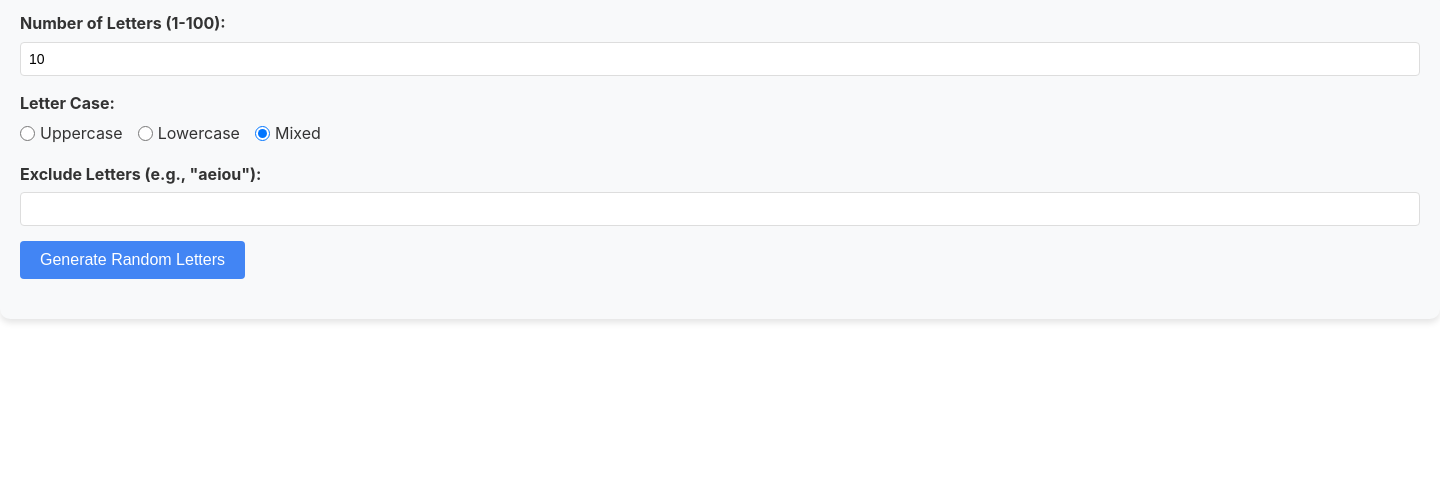
Test: RandomLetterGenerator › handles edge case when all letters are excluded
Exclude all letters
Type "abcdefghijklmnopqrstuvwxyz" into the field labelled "Exclude Letters (e.g., \"aeiou\"):" at (720, 209), box [20,192,1420,226]
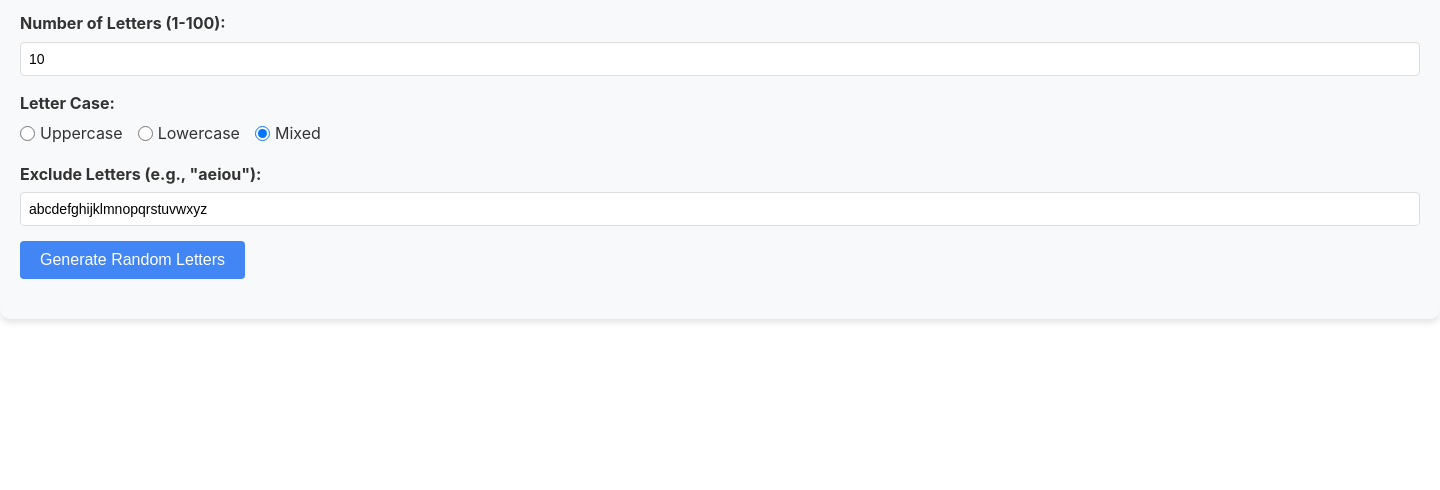
Generate letters
Click the button "Generate Random Letters" at (132, 260), box [20,241,245,279]
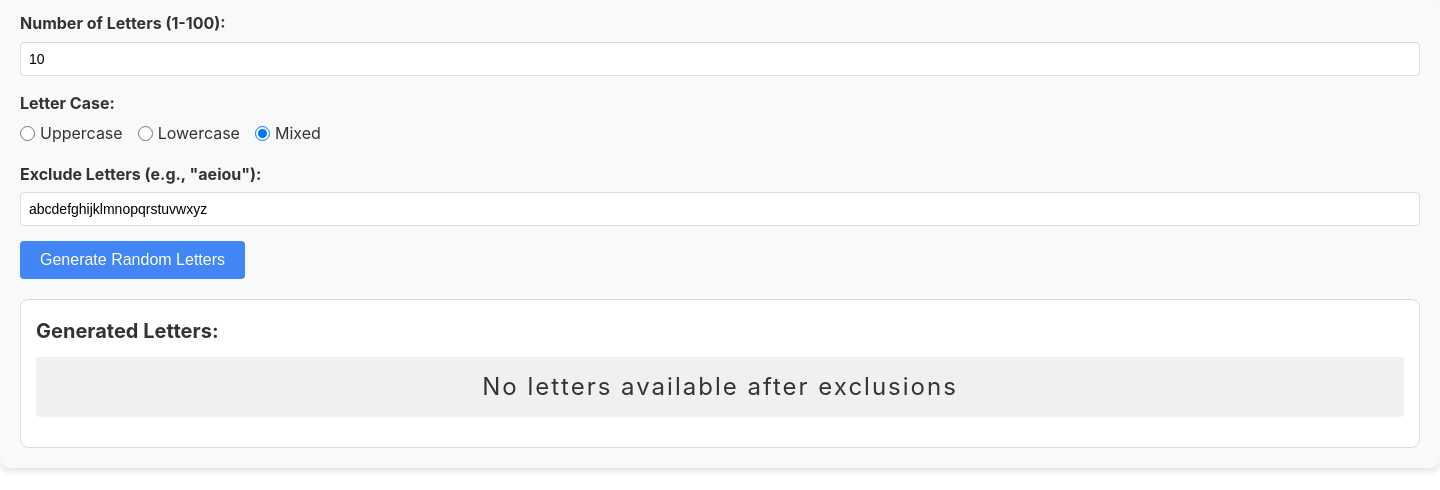
Expected: the text "No letters available after exclusions" is shown, [36,357,1404,417]
